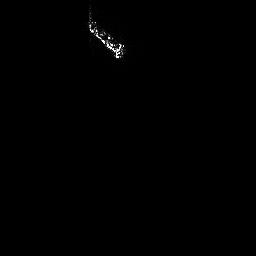ship: (88, 10, 127, 61)
